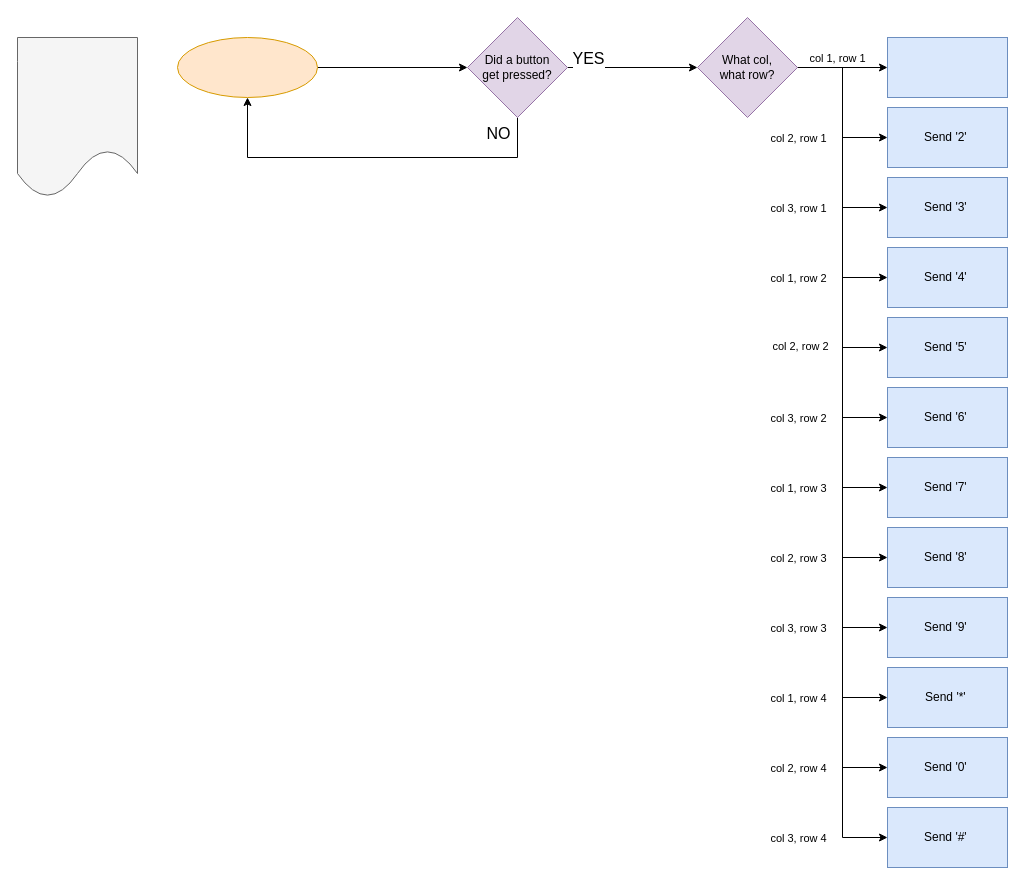
Some shapes in this 1025 by 885 pixel diagram are drawn without their labels. Each missing label, with the centre of its shape:
keypad_check(): point (247, 67)
keypad_col struct keypad_row struct: point (77, 117)
Send '1': point (947, 67)
